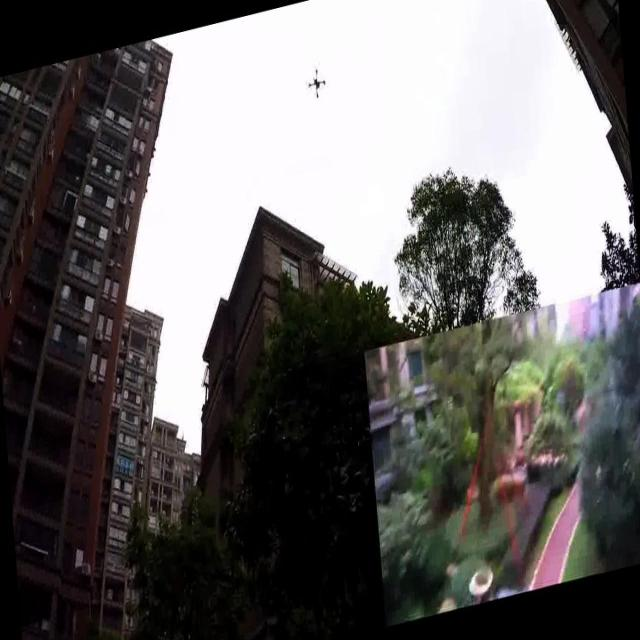drone: (302, 60, 328, 103)
